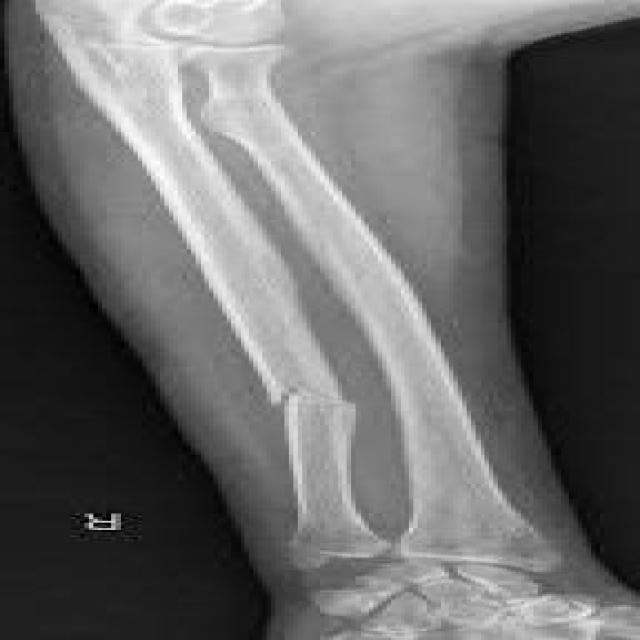bone: (242, 368, 380, 429)
